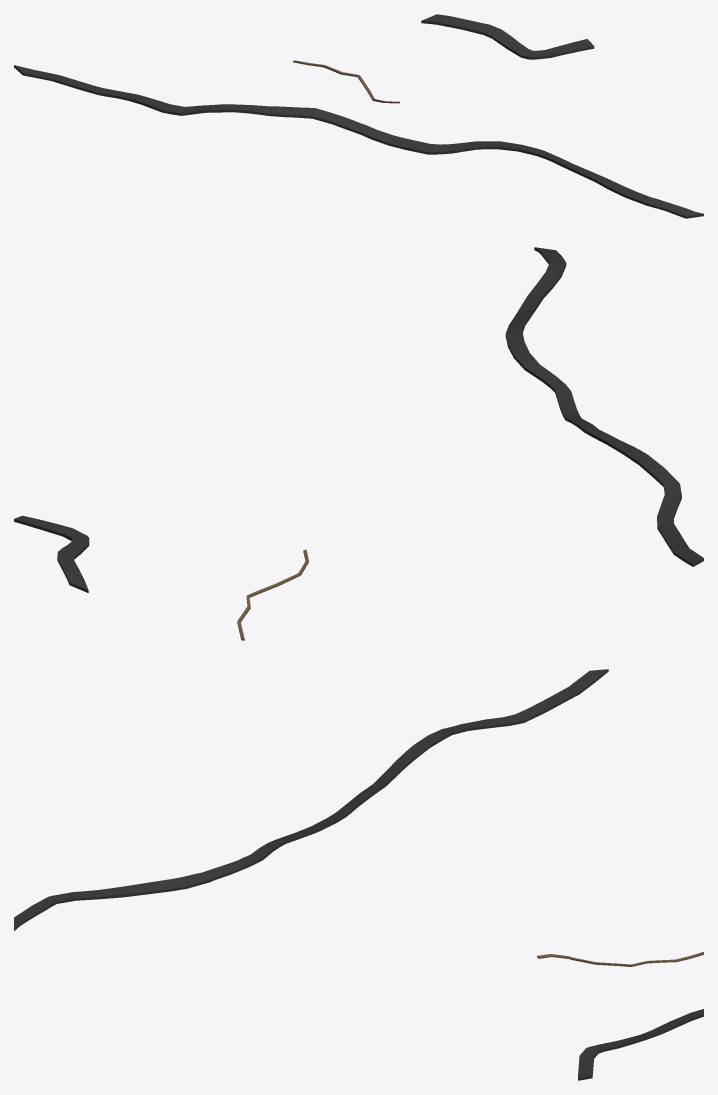
3 renders of one model, top to bottom at view 1: azimuth 30°, elevation 25°; view 2: azimuth 150°, elevation 25°; view 3: azimuth 270°, elevation 25°, orthographic. The views are drawn at different scales.
Bounding box in the file's own units: 293 × 55.11 × 291.
